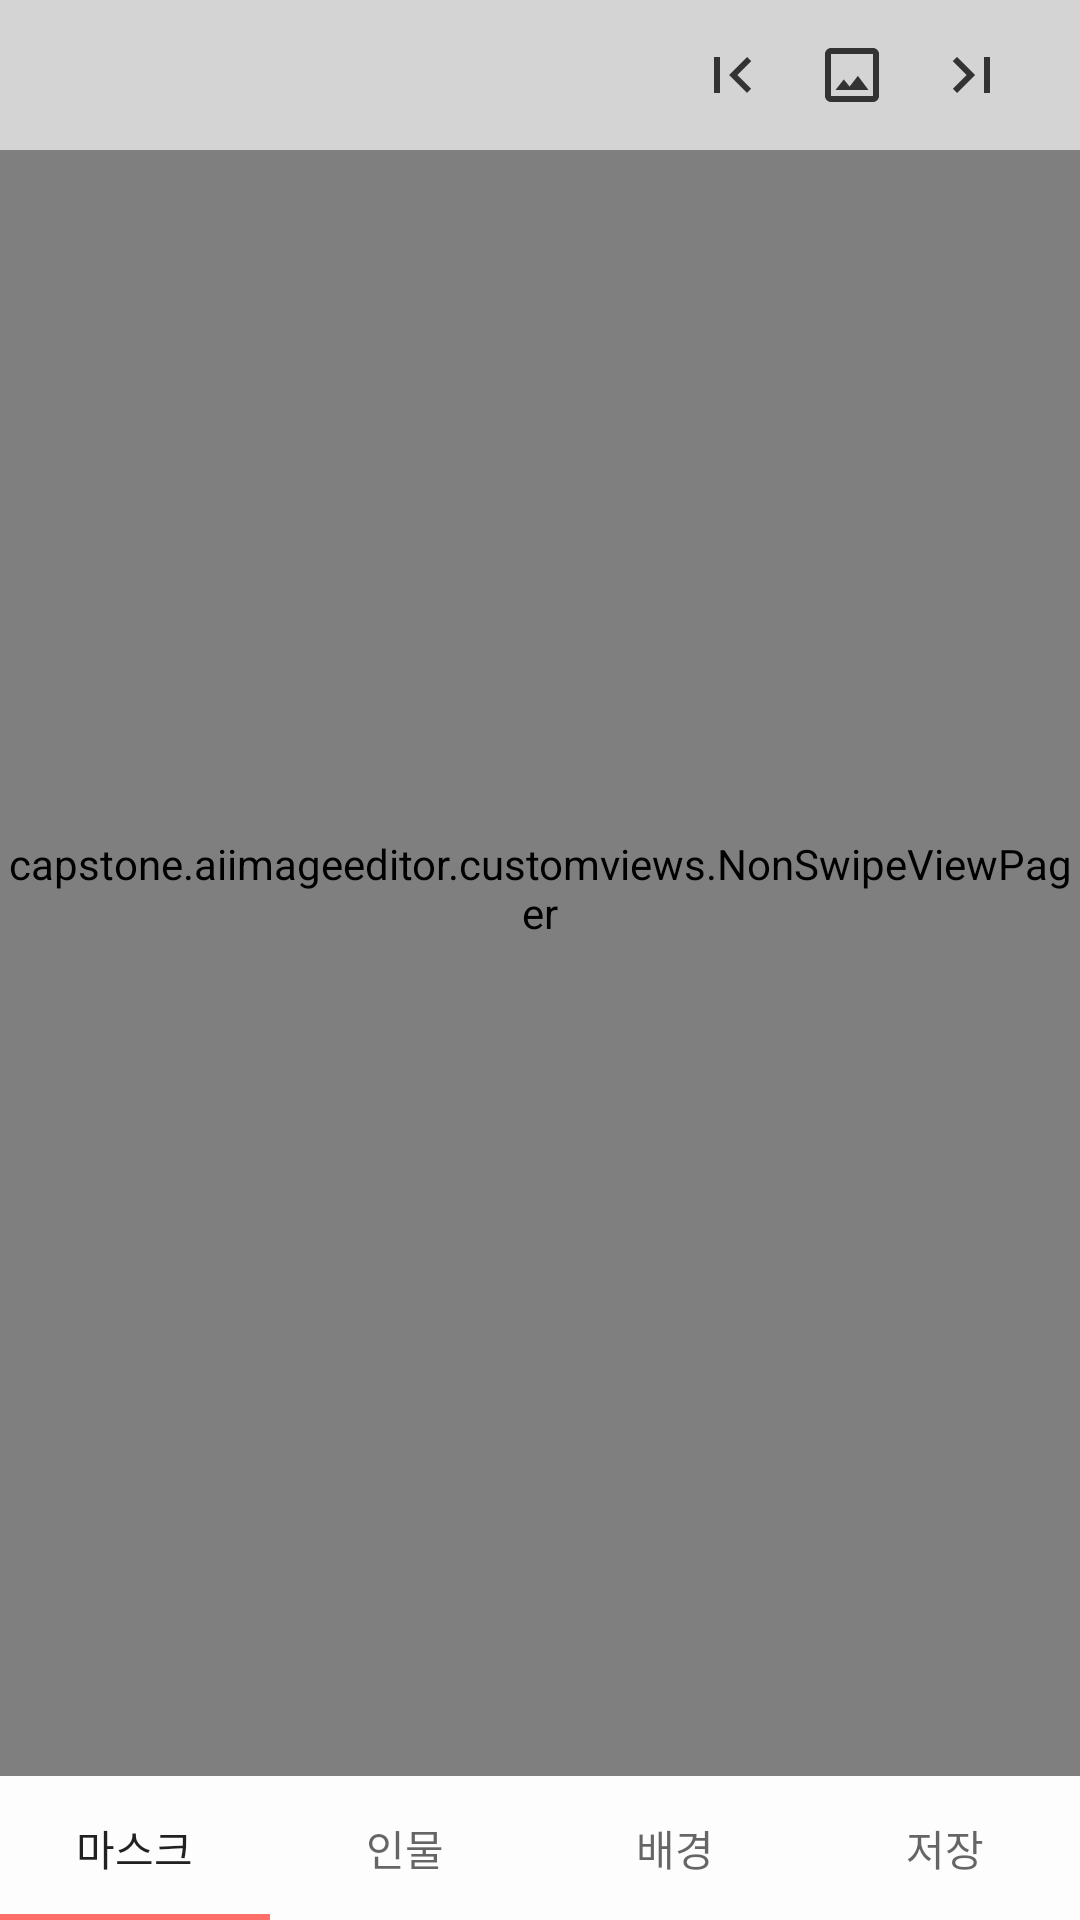

Point at icon controls on the screen. Image size 1080px×1920px, points as (x,y).
crop original: (852,75)
first page: (732,75)
last page: (971,75)
